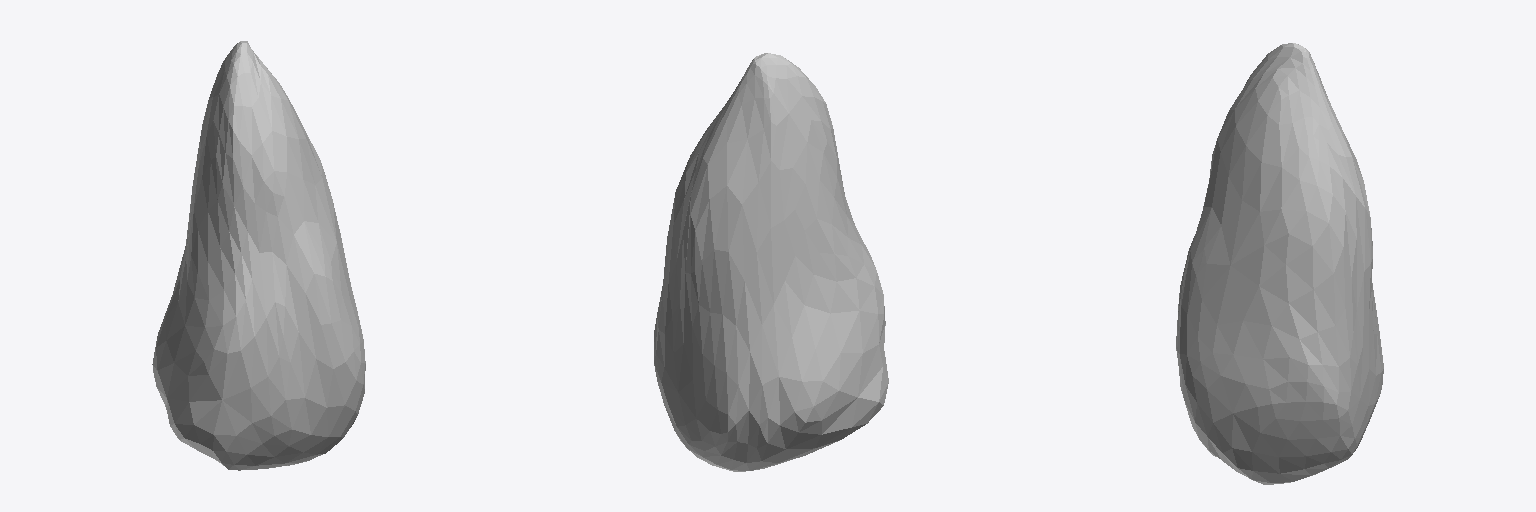
The model's file is Rock09.obj.
The picture shows the model from 3 angles: view 1: azimuth 30°, elevation 25°; view 2: azimuth 150°, elevation 25°; view 3: azimuth 270°, elevation 25°; orthographic projection.
Visible parts, largest first — view 1: Rock007; view 2: Rock007; view 3: Rock007.
Boxes of the visible parts, x1=… form: Rock007: x1=152, y1=41, x2=365, y2=470; Rock007: x1=654, y1=53, x2=888, y2=471; Rock007: x1=1176, y1=43, x2=1383, y2=484.
Bounding box in the file's own units: 23.81 × 49.54 × 22.3.